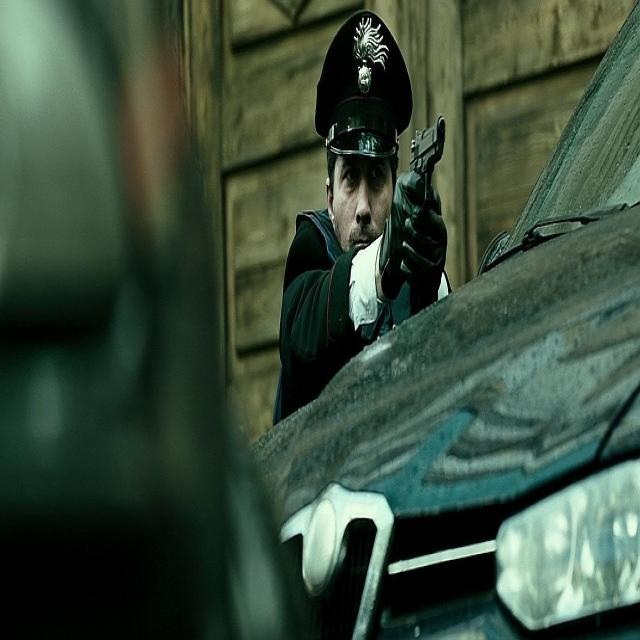gun-knife-thesis - v11 Yolov5 augmented: (391, 111, 461, 282)
